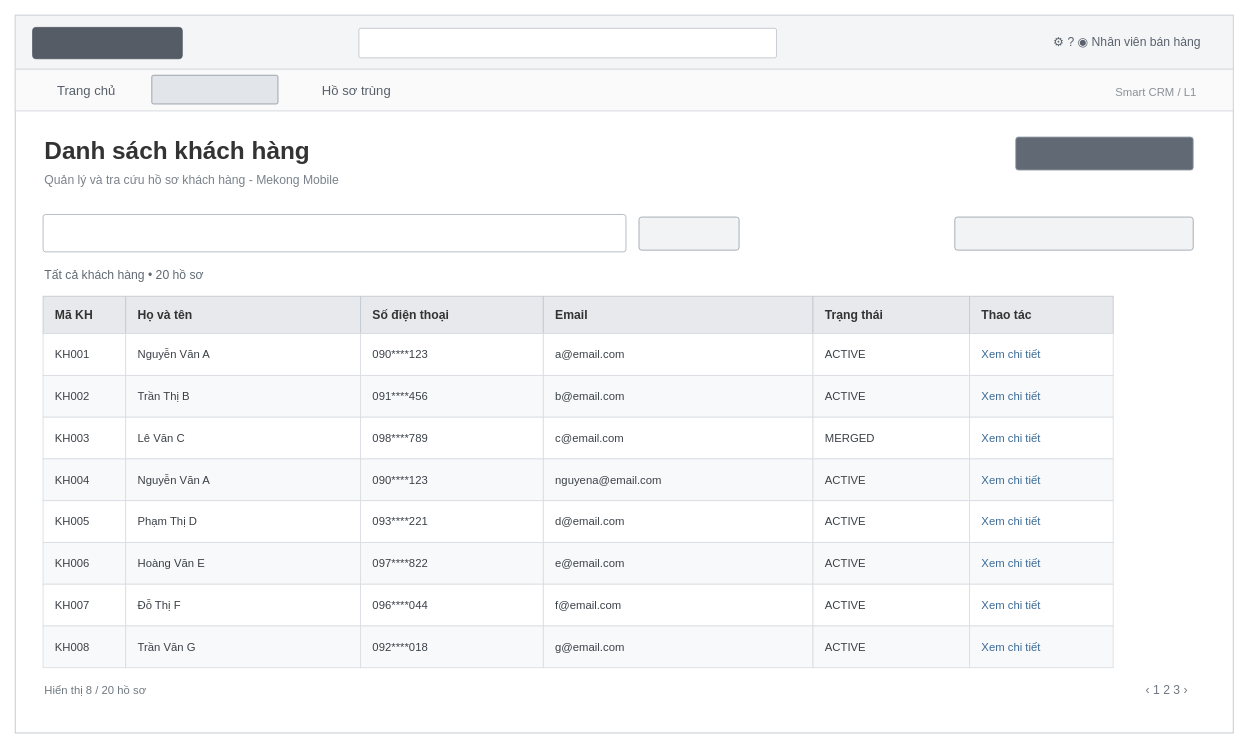
Some shapes in this 1248 by 748 pixel diagram are drawn without their labels. The box of each missing label's shape, as (x1, y1, x2, y2) in pixels:
+ Tạo khách hàng: (1015, 136, 1193, 170)
Khách hàng: (151, 74, 278, 104)
Kiểm tra hồ sơ trùng: (954, 216, 1193, 250)
SMART CRM: (32, 27, 182, 59)
Tìm kiếm: (638, 216, 739, 250)
⌕ Tìm kiếm khách hàng, số điện thoại...: (358, 27, 776, 58)
⌕ Tìm theo họ tên hoặc số điện thoại...: (42, 214, 626, 252)
